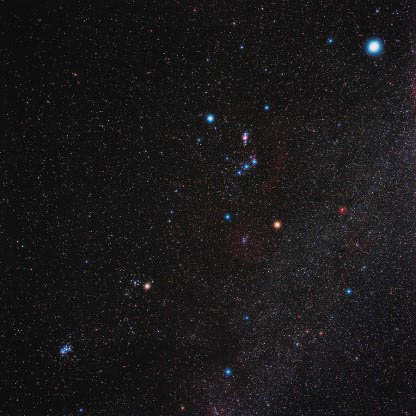Orion: (201, 111, 220, 128), (217, 210, 236, 226), (268, 215, 284, 233), (258, 100, 275, 114), (231, 165, 242, 183), (252, 154, 262, 169), (240, 156, 249, 172)
